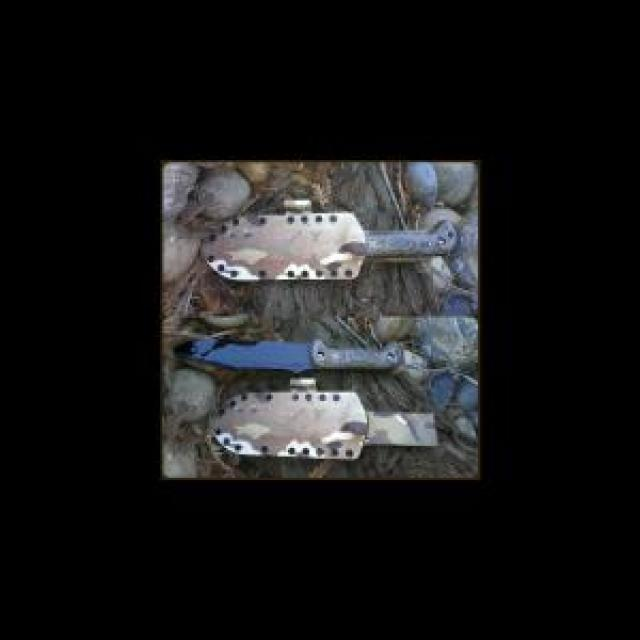knife: (168, 326, 406, 379)
